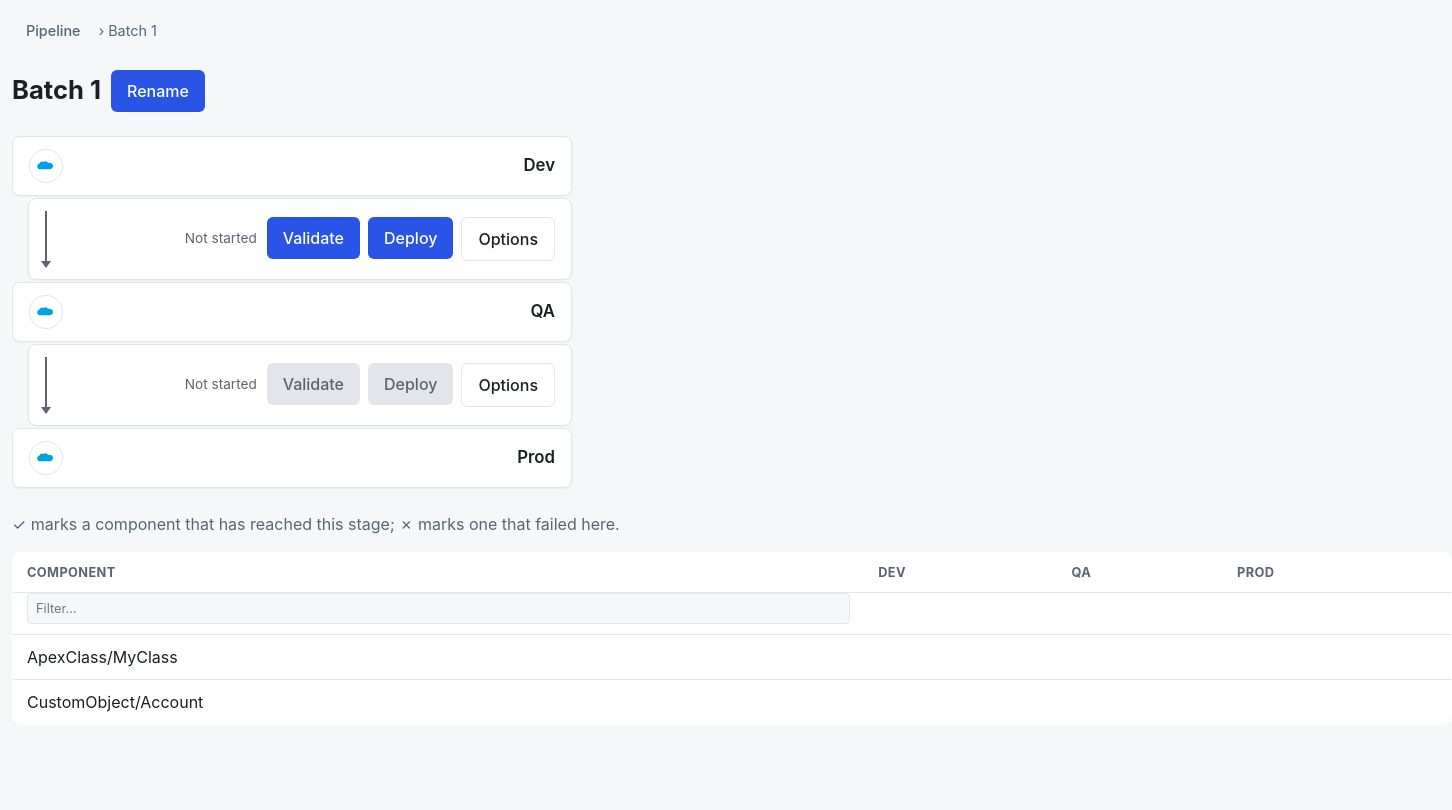
Test case: PipelineRunDetail page › filters the component grid by the Component column's filter box, leaving stage columns unaffected
Check: the text "ApexClass/MyClass" is shown, box [12, 634, 864, 680]
Check: the text "CustomObject/Account" is shown, box [12, 680, 864, 724]
Type "myclass" into the field named "filter by component". click: [439, 608]
box: [27, 593, 850, 624]
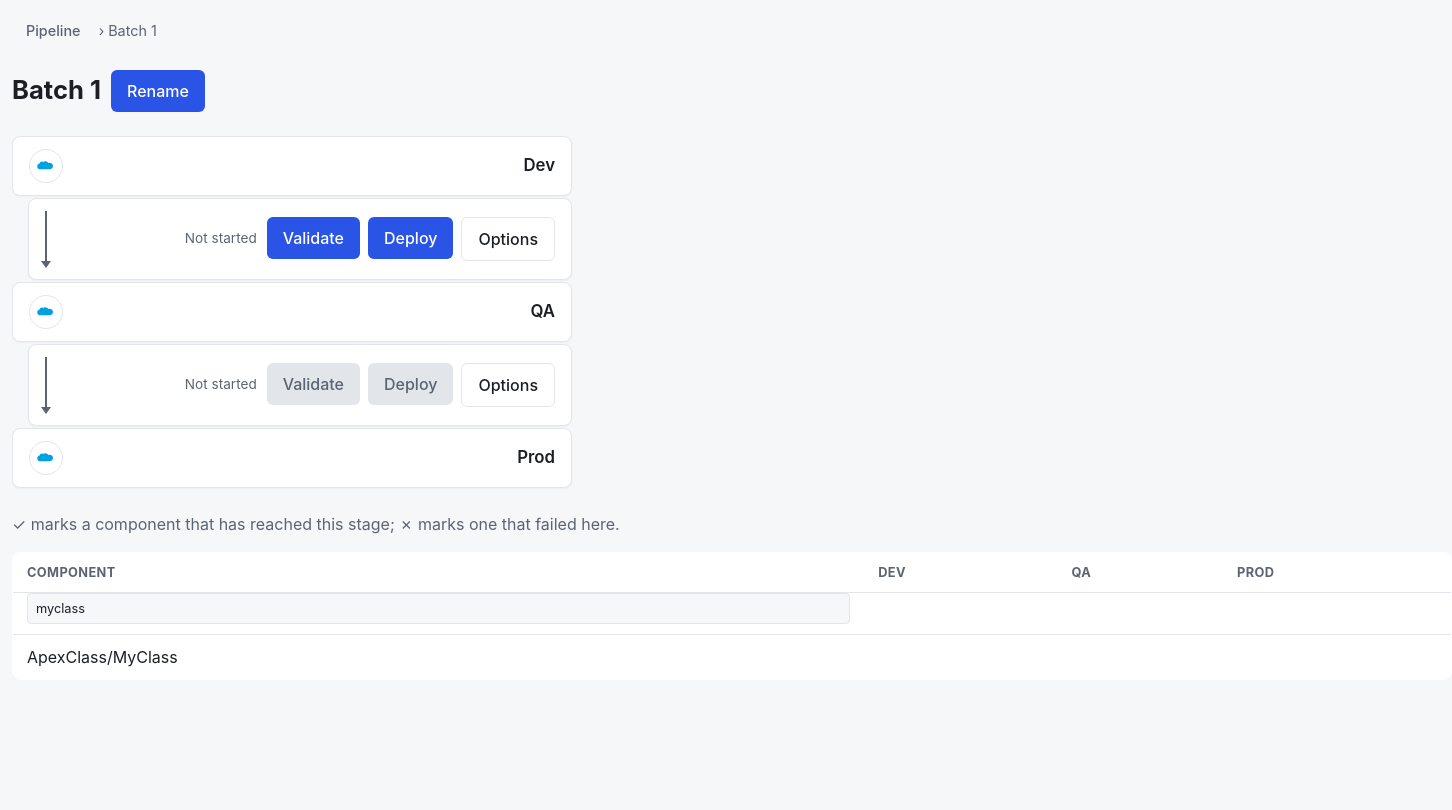
Check: the text "ApexClass/MyClass" is shown, box [12, 634, 864, 680]
Check: the text "CustomObject/Account" is gone
